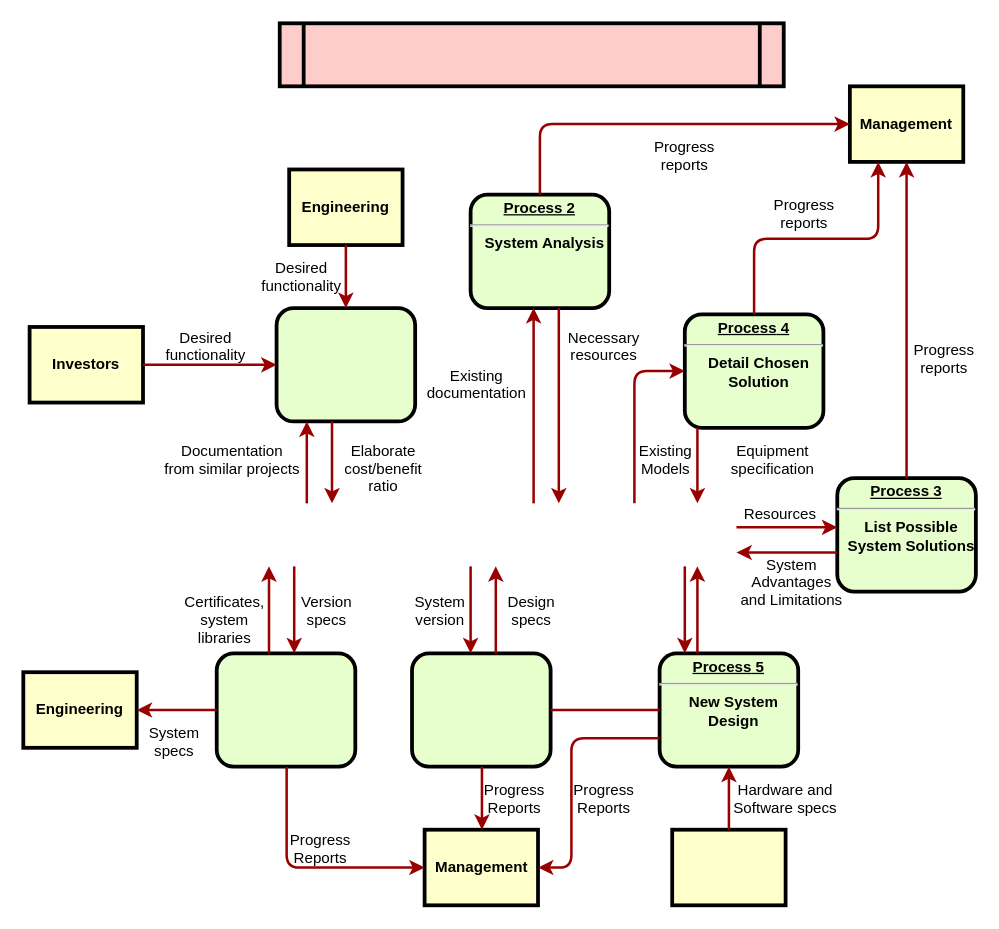
This 999x929 diagram has some shape labels left out. Each missing label, with the box of its shape:
Diagrama de Proceso: (277, 21, 785, 88)
Process 1 System Study Preparation: (274, 306, 416, 423)
Process 6 New System Construction: (214, 651, 357, 768)
Process 7 New System Startup and Testing: (410, 651, 552, 768)
Vendors: (670, 827, 787, 907)
